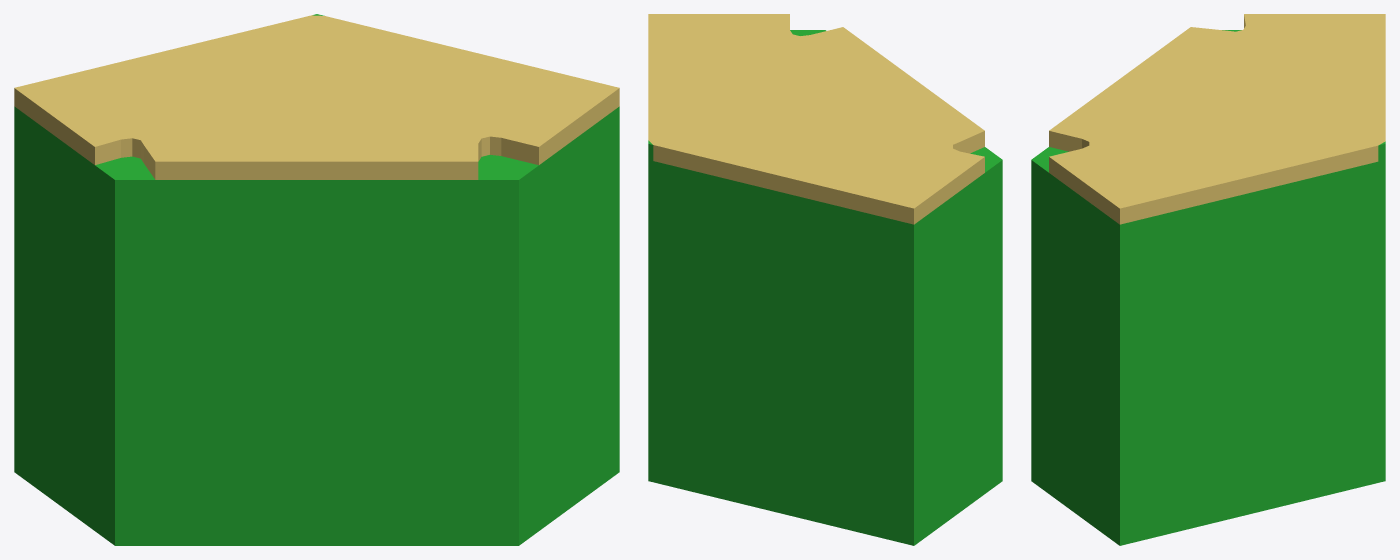
Rendered from module-corner_land_path_full_003.glb.
3 views of the same model, side by side, from view 1: azimuth 30°, elevation 25°; view 2: azimuth 150°, elevation 25°; view 3: azimuth 270°, elevation 25° (orthographic). The views are drawn at different scales.
Parts seen in each view (by area): view 1: module-corner_land_path_full_003; view 2: module-corner_land_path_full_003; view 3: module-corner_land_path_full_003.
Part boxes in pixels (<box>): module-corner_land_path_full_003: <box>14,14,619,545</box>; module-corner_land_path_full_003: <box>648,14,1002,545</box>; module-corner_land_path_full_003: <box>1031,14,1385,545</box>.
Bounding box in the file's own units: 0.6495 × 0.525 × 0.5.
